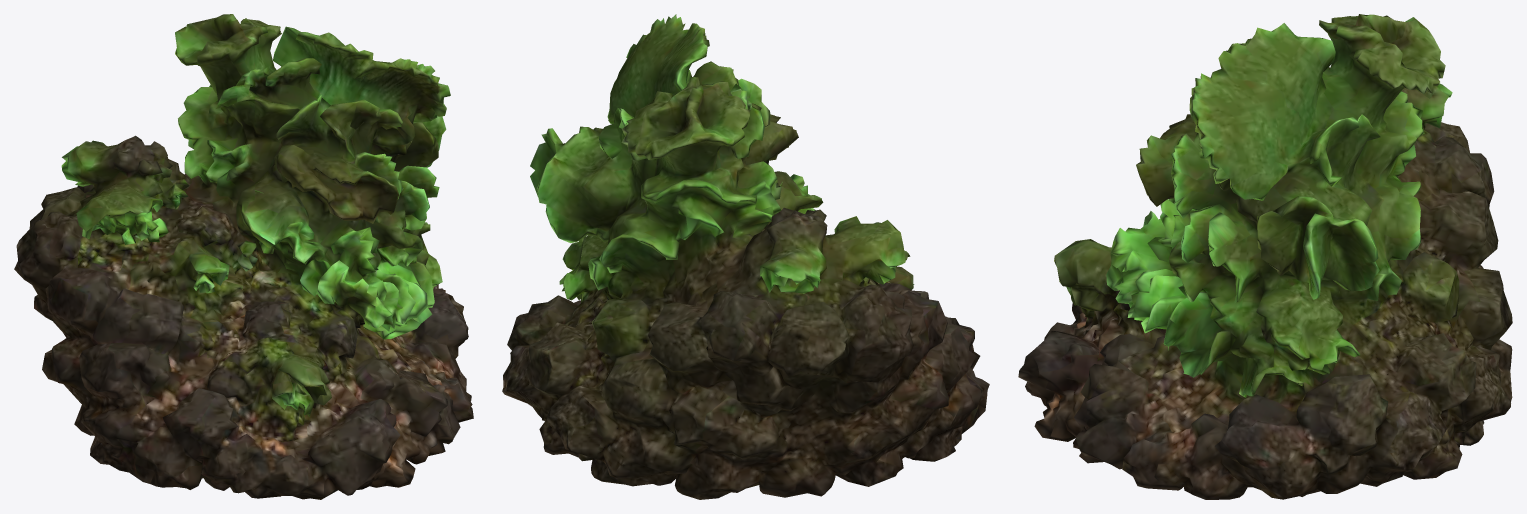
Rendered from fungus.glb.
3 renders of one model, left to right at view 1: azimuth 30°, elevation 25°; view 2: azimuth 150°, elevation 25°; view 3: azimuth 270°, elevation 25°, orthographic. The views are drawn at different scales.
Visible parts, largest first — view 1: tripo_node_480b64cd-11a0-45d5-8408-963ef7dd244e; view 2: tripo_node_480b64cd-11a0-45d5-8408-963ef7dd244e; view 3: tripo_node_480b64cd-11a0-45d5-8408-963ef7dd244e.
Boxes of the visible parts, <box> form: tripo_node_480b64cd-11a0-45d5-8408-963ef7dd244e: <box>14,14,473,499</box>; tripo_node_480b64cd-11a0-45d5-8408-963ef7dd244e: <box>502,14,989,499</box>; tripo_node_480b64cd-11a0-45d5-8408-963ef7dd244e: <box>1018,14,1512,499</box>.
Size of the model in its own units: 0.984 by 0.869 by 0.929.
Materials: 1 (1 with a texture image).
